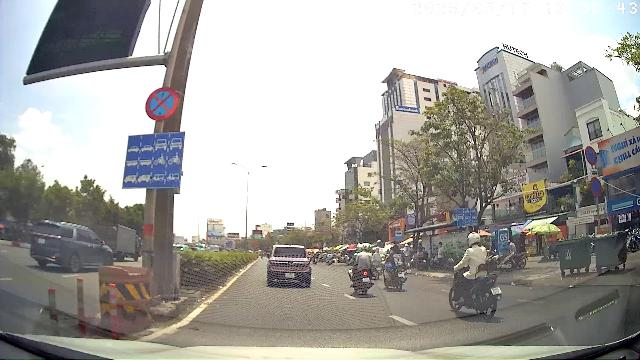130-cam-dung-va-do-xe: (145, 85, 180, 121)
